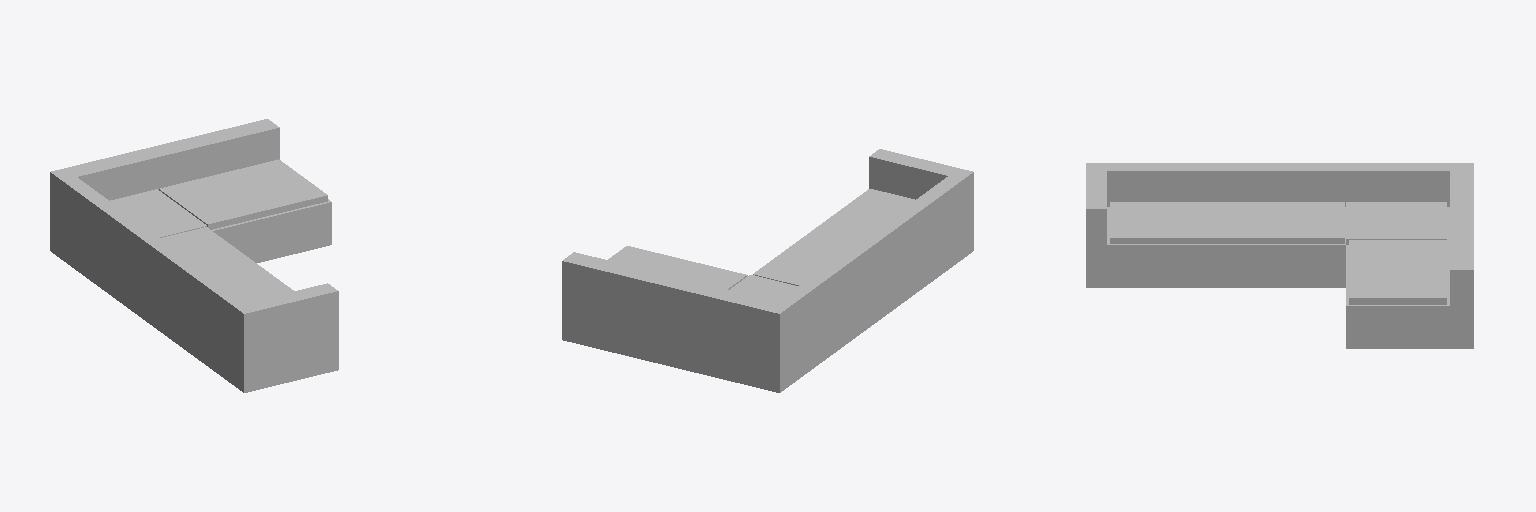
File: Kanapa.obj
The picture shows the model from 3 angles: view 1: azimuth 30°, elevation 25°; view 2: azimuth 150°, elevation 25°; view 3: azimuth 270°, elevation 25°; orthographic projection.
Parts seen in each view (by area): view 1: Cube.003_Cube.008; view 2: Cube.003_Cube.008; view 3: Cube.003_Cube.008.
Part boxes in pixels (x1,y1,x2,y2): Cube.003_Cube.008: (50, 119, 338, 392); Cube.003_Cube.008: (562, 149, 973, 392); Cube.003_Cube.008: (1086, 163, 1473, 348).
Bounding box in the file's own units: 3.68 × 1.28 × 5.68.